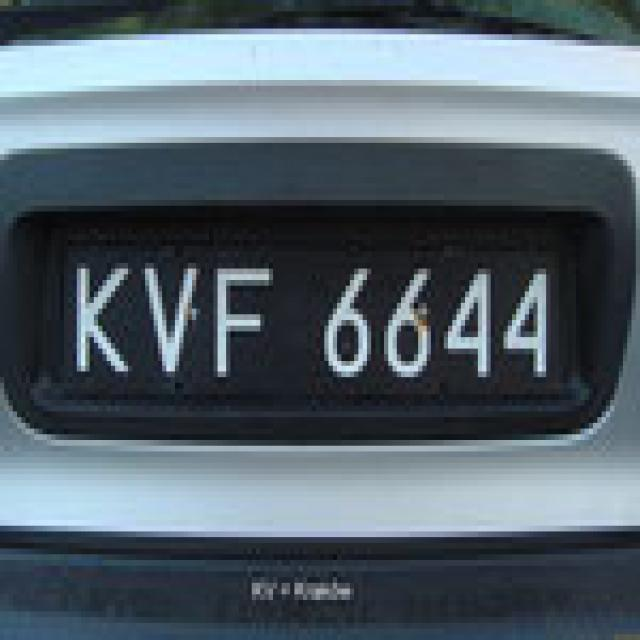pl_license_plate: (51, 240, 568, 394)
